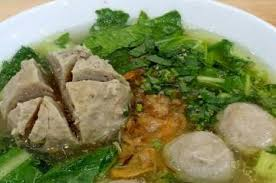bakso: (5, 35, 272, 183)
